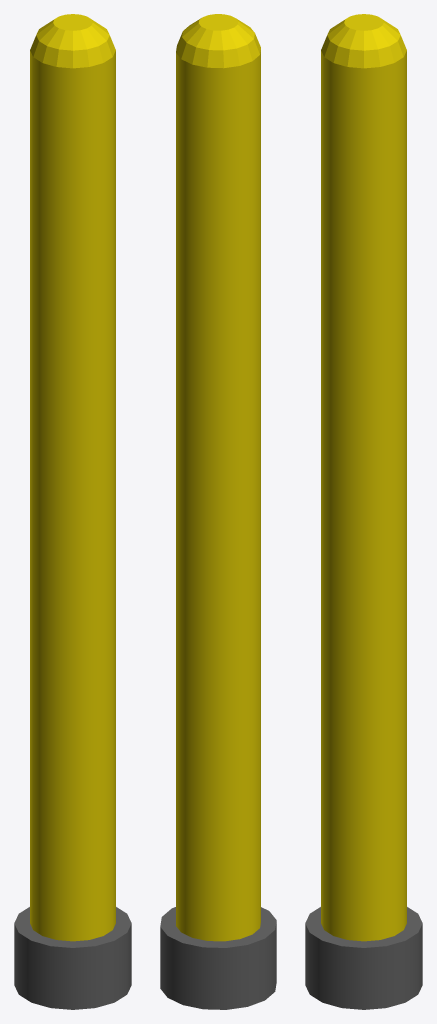
File: SM_garage_rod_01.fbx
The picture shows the model from 3 angles, left to right: view 1: azimuth 90°, elevation 25°; view 2: azimuth 210°, elevation 25°; view 3: azimuth 270°, elevation 25°; orthographic projection.
Visible parts, largest first — view 1: garage_rod_01; view 2: garage_rod_01; view 3: garage_rod_01.
Part boxes in pixels (x1,y1,x2,y2): garage_rod_01: (14, 14, 131, 1009); garage_rod_01: (160, 14, 276, 1009); garage_rod_01: (305, 14, 422, 1009).
Bounding box in the file's own units: 36.11 × 327 × 36.11.
